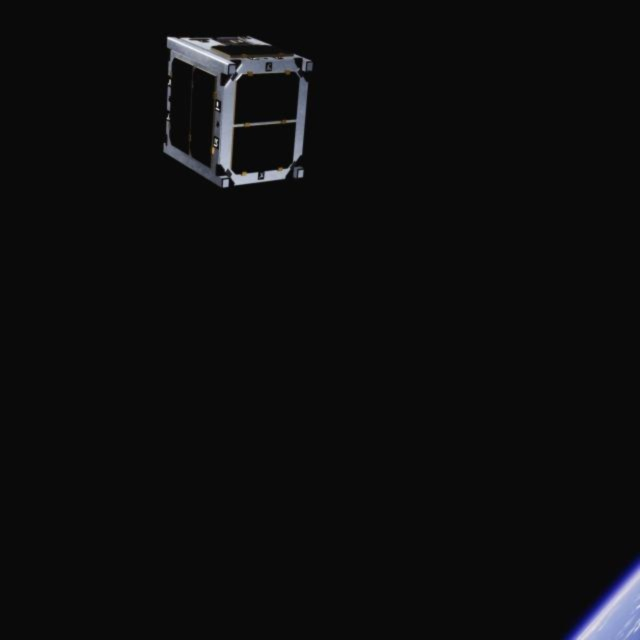satellite: (155, 28, 329, 197)
